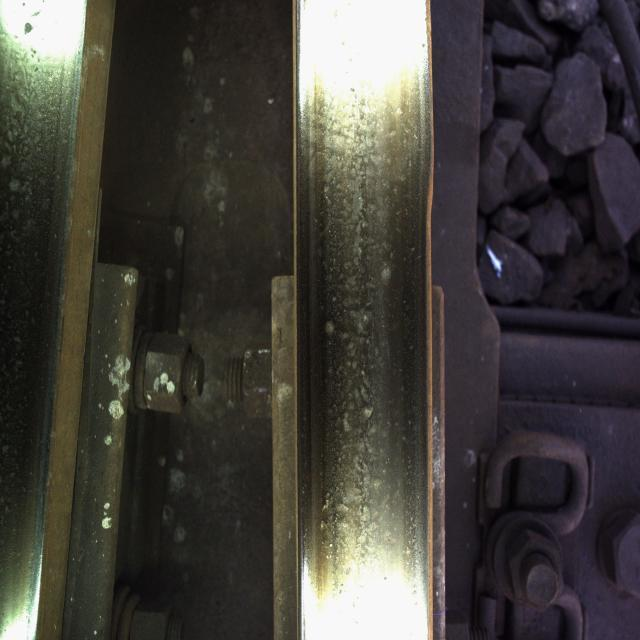scar: (306, 40, 416, 591)
